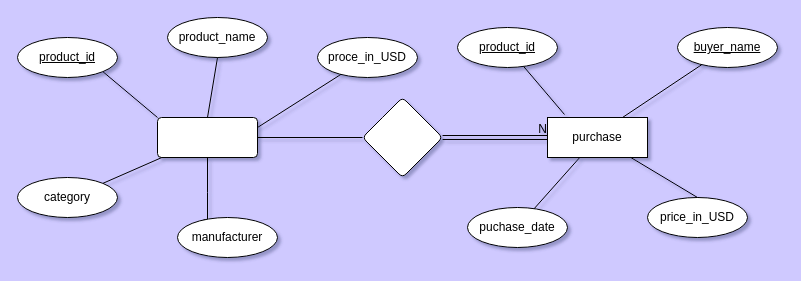
This 801x281 diagram has some shape labels left out. The shapes that lost their labels are listed below. From the top down, each one's box as (x1, y1, x2, y2) in pixels, then its label:
(156, 116, 258, 158): Product
(362, 96, 442, 178): puchased
